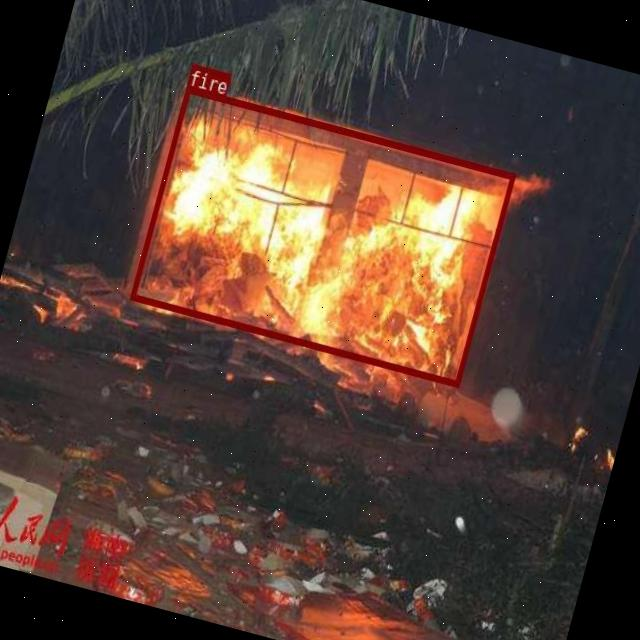fire: (130, 85, 514, 386)
